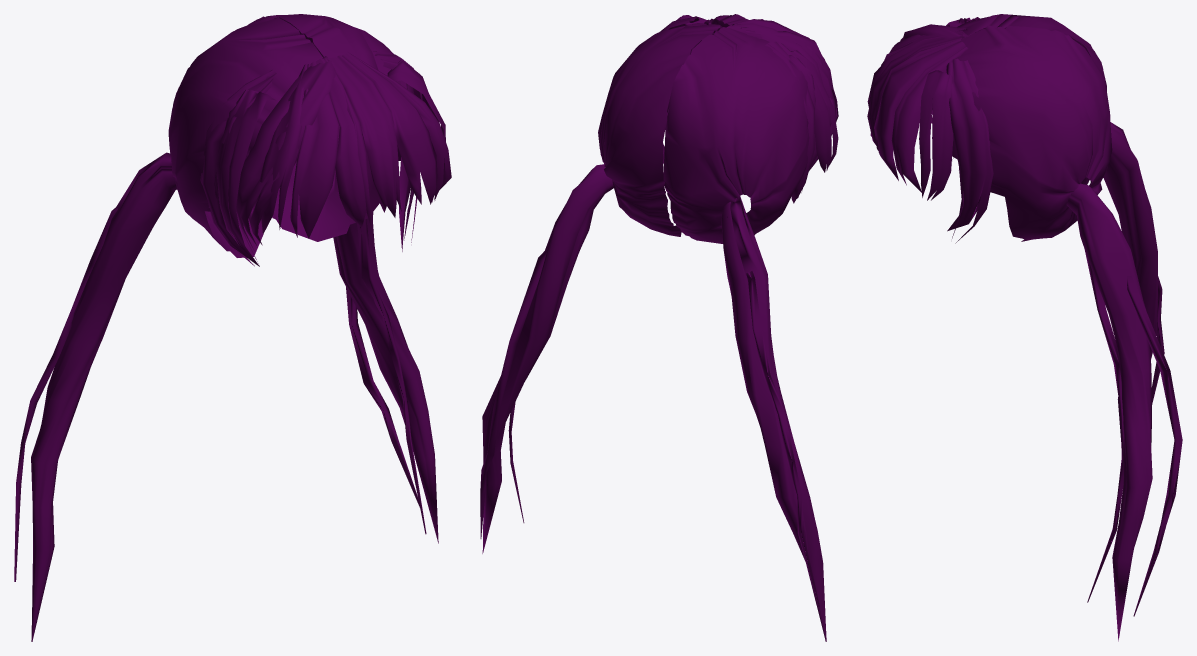
The picture shows the model from 3 angles, left to right: view 1: azimuth 30°, elevation 25°; view 2: azimuth 150°, elevation 25°; view 3: azimuth 270°, elevation 25°; orthographic projection. The views are drawn at different scales.
Parts seen in each view (by area): view 1: u_twin:null_3; view 2: u_twin:null_3; view 3: u_twin:null_3.
Part boxes in pixels (<box>): u_twin:null_3: <box>14,14,451,641</box>; u_twin:null_3: <box>480,14,838,641</box>; u_twin:null_3: <box>867,14,1182,641</box>.
Size of the model in its own units: 42 by 60.08 by 32.3.
